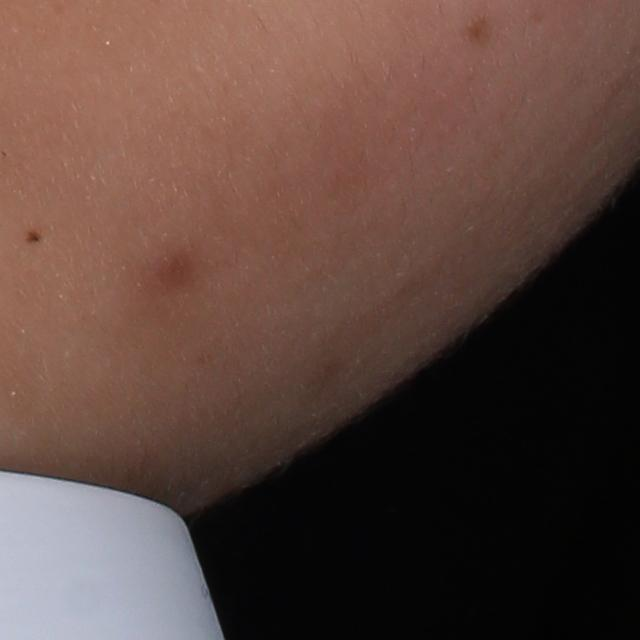nevus: (25, 229, 43, 244)
